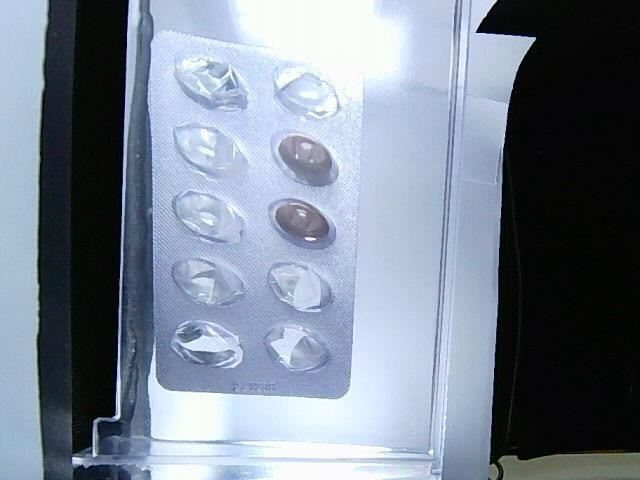Light Front: (148, 31, 363, 401)
No Pill Front: (174, 123, 249, 178), (175, 54, 247, 110), (174, 191, 245, 242), (171, 258, 244, 306), (274, 66, 341, 117), (170, 321, 242, 367), (268, 263, 334, 312), (265, 324, 328, 371)
Pill Front: (273, 130, 339, 185), (269, 199, 336, 249)
